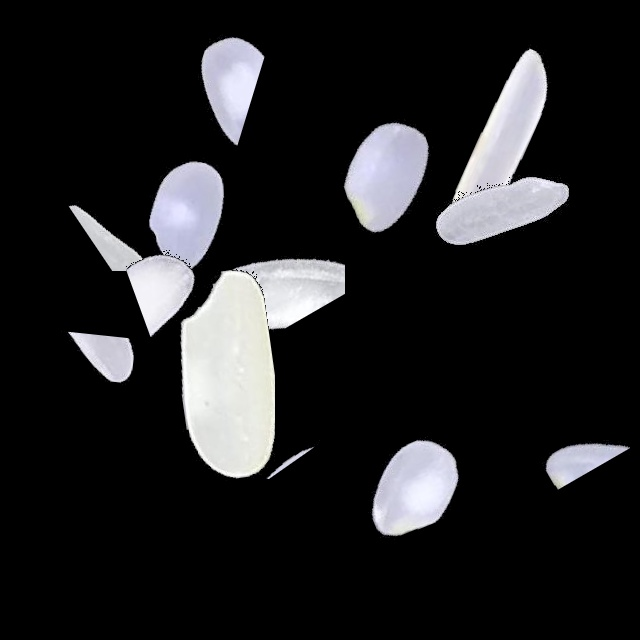Broken: (104, 256, 275, 506), (378, 87, 628, 258), (188, 123, 345, 373), (59, 7, 309, 148), (20, 146, 270, 271), (71, 222, 321, 344), (18, 265, 134, 515), (517, 290, 630, 540), (127, 385, 377, 479), (163, 289, 244, 539), (133, 150, 209, 400)
Full: (60, 90, 310, 340), (288, 360, 538, 610), (377, 22, 627, 272), (265, 51, 515, 301)
